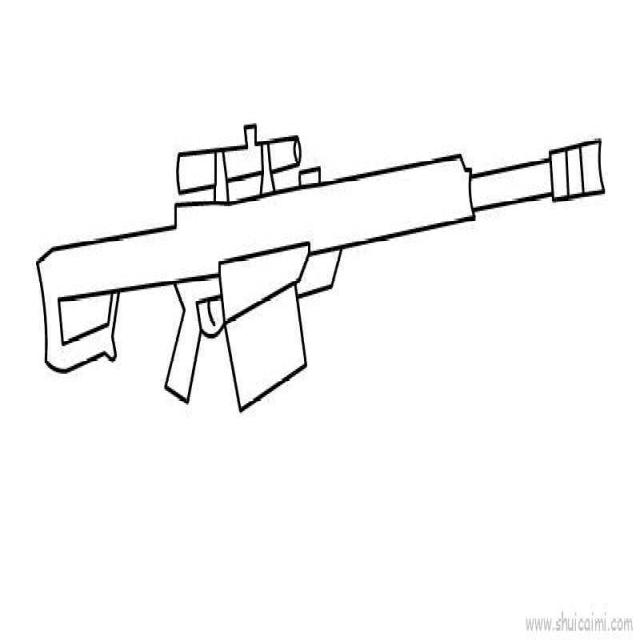gun: (35, 123, 606, 408)
